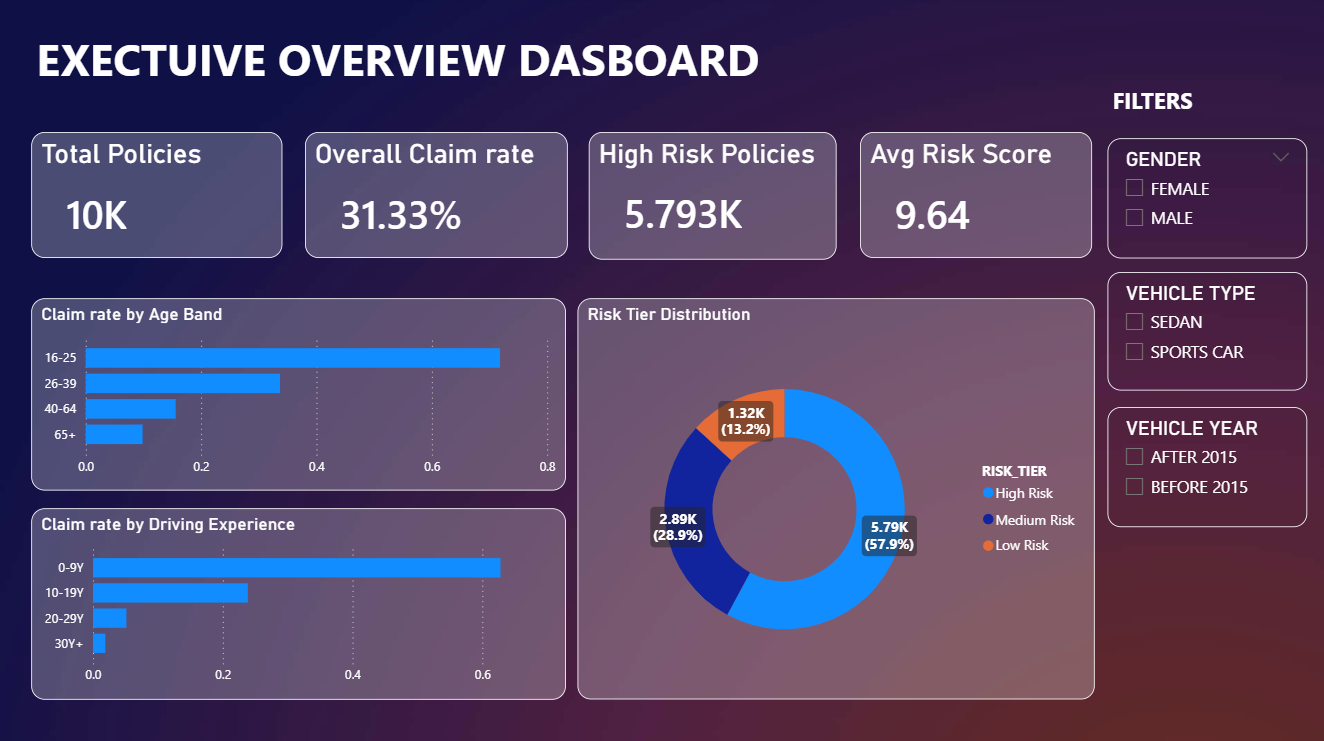

The dashboard page shown, as its layout file describes it:
{"tool":"powerbi","page":{"name":"Exectuive Overview","canvas":[1280,720],"ordinal":0},"visuals":[{"type":"cardVisual","title":"Total Policies","fields":{"Data":["CountNonNull(car_insurance_clean.ID)"]},"box":[30.4,130.3,242.5,121.9],"z":0},{"type":"cardVisual","title":"Overall Claim rate","fields":{"Data":["Avg(car_insurance_clean.OUTCOME)"]},"box":[294.4,130.3,253.4,121.9],"z":1000},{"type":"cardVisual","title":"High Risk Policies","fields":{"Data":["CountNonNull(car_insurance_clean.RISK_TIER)"]},"box":[568.2,130.3,238.9,123.1],"z":2000},{"type":"cardVisual","title":"Avg Risk Score","fields":{"Data":["Avg(car_insurance_clean.RISK_SCORE)"]},"box":[830,130.3,224.4,121.9],"z":3000},{"type":"clusteredBarChart","title":"Claim rate by Age Band","fields":{"Category":["car_insurance_clean.AGE_BAND"],"Y":["Avg(car_insurance_clean.OUTCOME)"]},"box":[30.2,290.8,516.4,185.8],"z":4000},{"type":"clusteredBarChart","title":"Claim rate by Driving Experience","fields":{"Y":["Avg(car_insurance_clean.OUTCOME)"],"Category":["car_insurance_clean.DRIVING_EXPERIENCE"]},"box":[30.2,493.4,516.4,184.6],"z":5000},{"type":"donutChart","title":"Risk Tier Distribution","fields":{"Category":["car_insurance_clean.RISK_TIER"],"Y":["CountNonNull(car_insurance_clean.ID)"]},"box":[557.4,290.8,499.5,387.3],"z":6000},{"type":"slicer","fields":{"Values":["car_insurance_clean.GENDER"]},"box":[1068.9,136.3,193,115.8],"z":7000},{"type":"slicer","fields":{"Values":["car_insurance_clean.VEHICLE_TYPE"]},"box":[1068.9,265.4,193,114.6],"z":8000},{"type":"slicer","fields":{"Values":["car_insurance_clean.VEHICLE_YEAR"]},"box":[1068.9,395.7,193,115.8],"z":9000},{"type":"textbox","box":[30.2,25.3,792.6,70],"z":10000},{"type":"textbox","box":[1068.9,79.6,193,38.6],"z":11000}]}

Visuals, with their boxes in screenshot pixels (x1, y1, x2, y2), scaled from the page's 1280x720 canvas onto the 1324x741 screenshot:
"Total Policies" cardVisual: 31, 134, 282, 260
"Overall Claim rate" cardVisual: 305, 134, 567, 260
"High Risk Policies" cardVisual: 588, 134, 835, 261
"Avg Risk Score" cardVisual: 859, 134, 1091, 260
"Claim rate by Age Band" clusteredBarChart: 31, 299, 565, 491
"Claim rate by Driving Experience" clusteredBarChart: 31, 508, 565, 698
"Risk Tier Distribution" donutChart: 577, 299, 1093, 698
slicer - car_insurance_clean.GENDER: 1106, 140, 1305, 259
slicer - car_insurance_clean.VEHICLE_TYPE: 1106, 273, 1305, 391
slicer - car_insurance_clean.VEHICLE_YEAR: 1106, 407, 1305, 526
textbox: 31, 26, 851, 98
textbox: 1106, 82, 1305, 122
